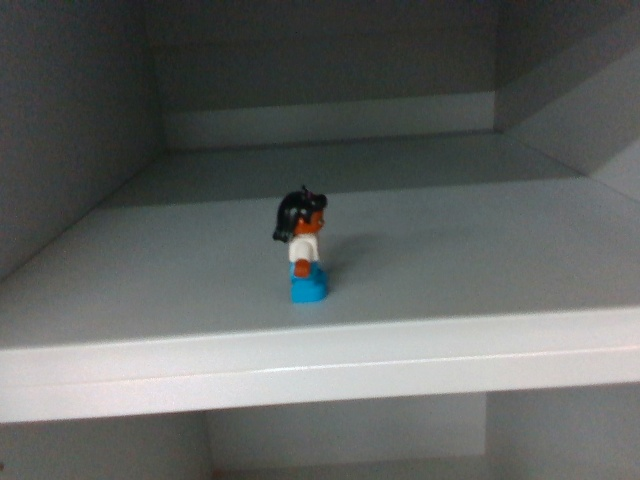people: (267, 186, 337, 308)
